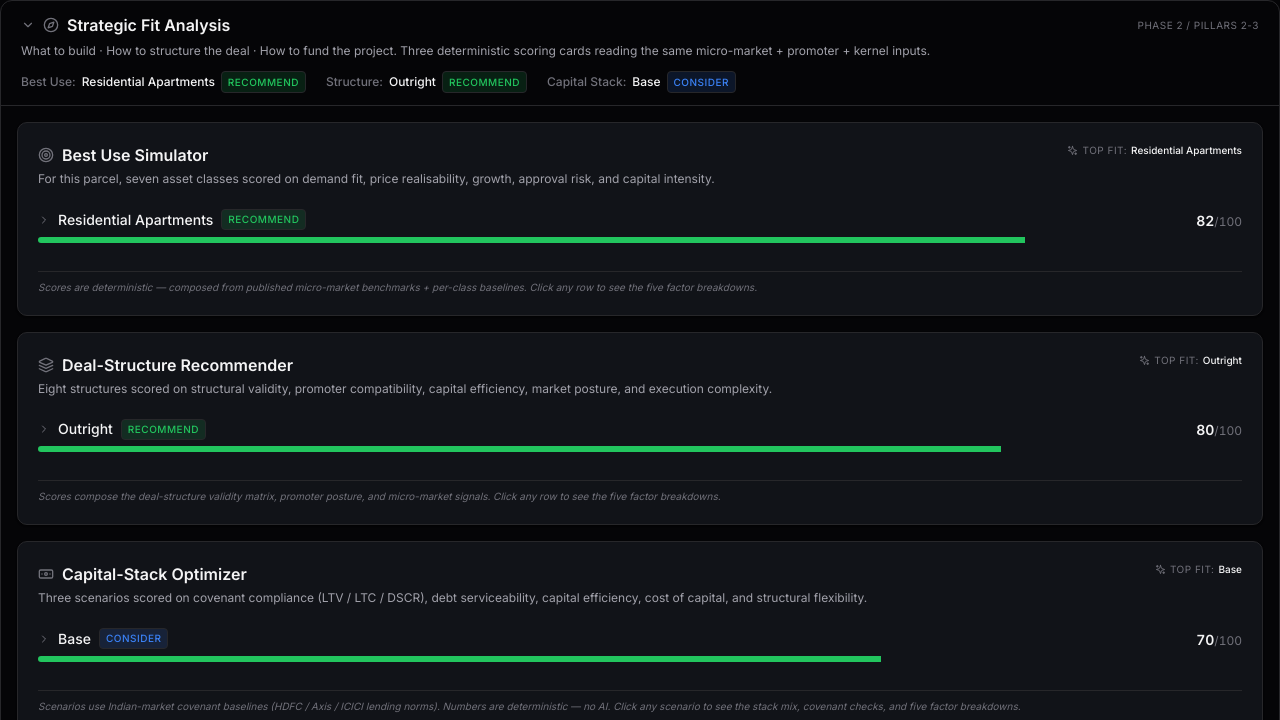
StrategicFitSection › collapsing the header hides the nested panels
This screenshot has width=1280, height=720.
expect the heading "Best Use Simulator" is shown: met, box [38, 145, 208, 165]
expect the heading "Deal-Structure Recommender" is shown: met, box [38, 354, 293, 374]
# Collapse the section
What coordinates should you click on to do the following:
click the button that starts with "Strategic Fit Analysis"
I would click on:
 (149, 25)
Its box is [21, 13, 1259, 60].
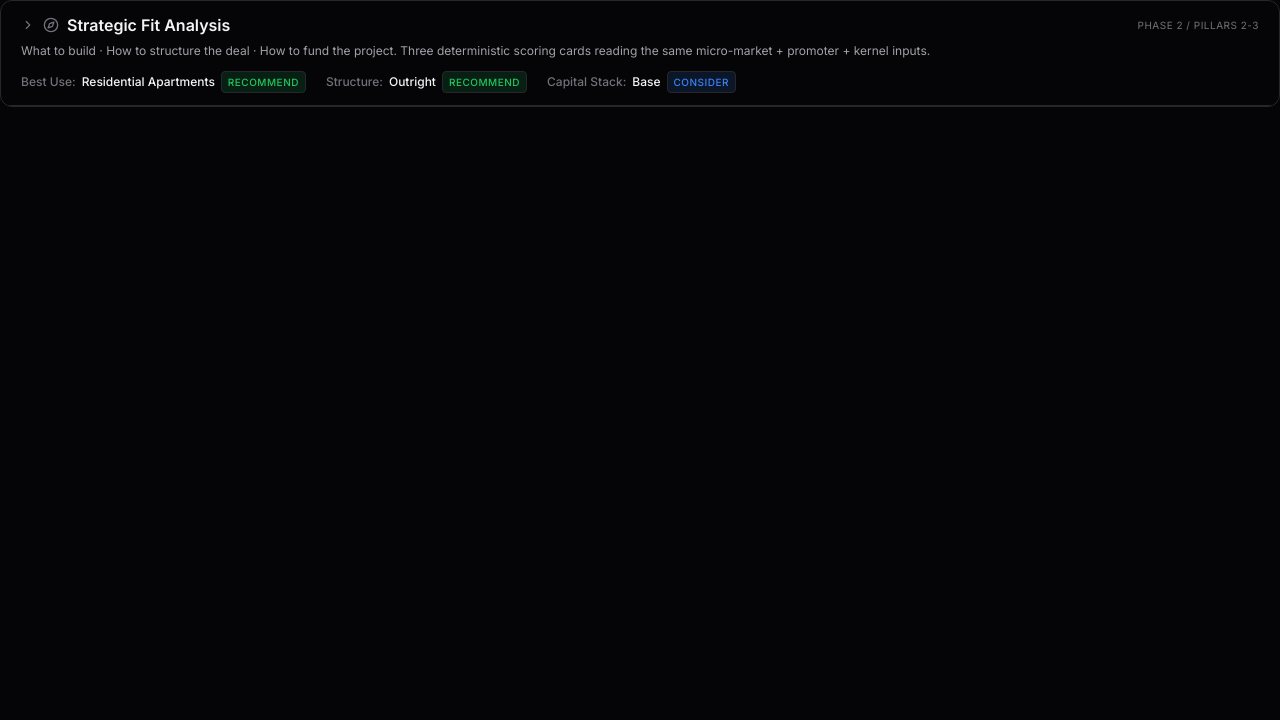
expect the heading "Best Use Simulator" is gone: met
expect the heading "Deal-Structure Recommender" is gone: met
expect the heading "Capital-Stack Optimizer" is gone: met
